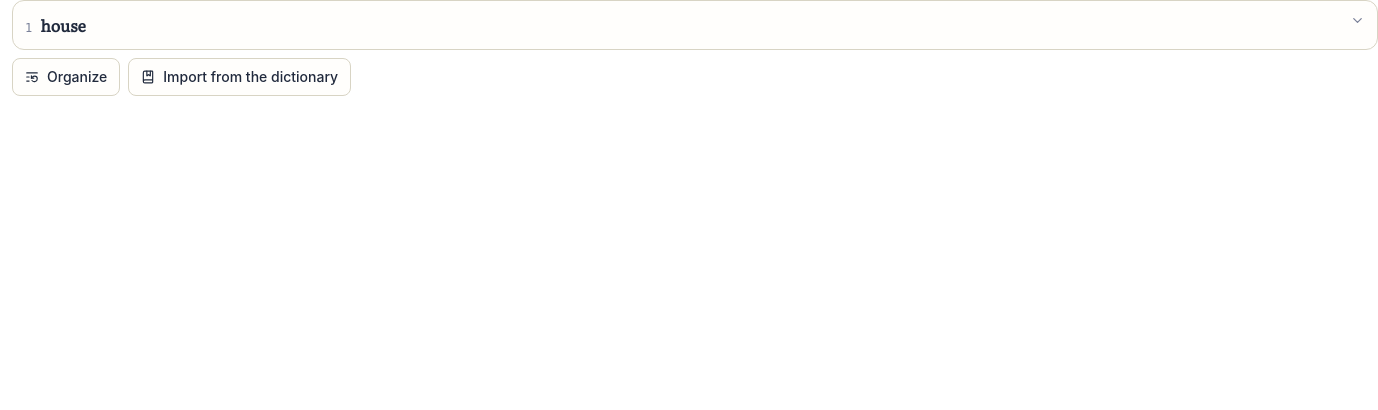
Test: importing meanings from the attached dictionary entry › starts with nothing selected and cannot import until a sense is chosen
What coordinates should you click on to do the following:
click the button "Import from the dictionary"
I would click on:
 (240, 77)
Its box is top-left (128, 58), bottom-right (351, 96).
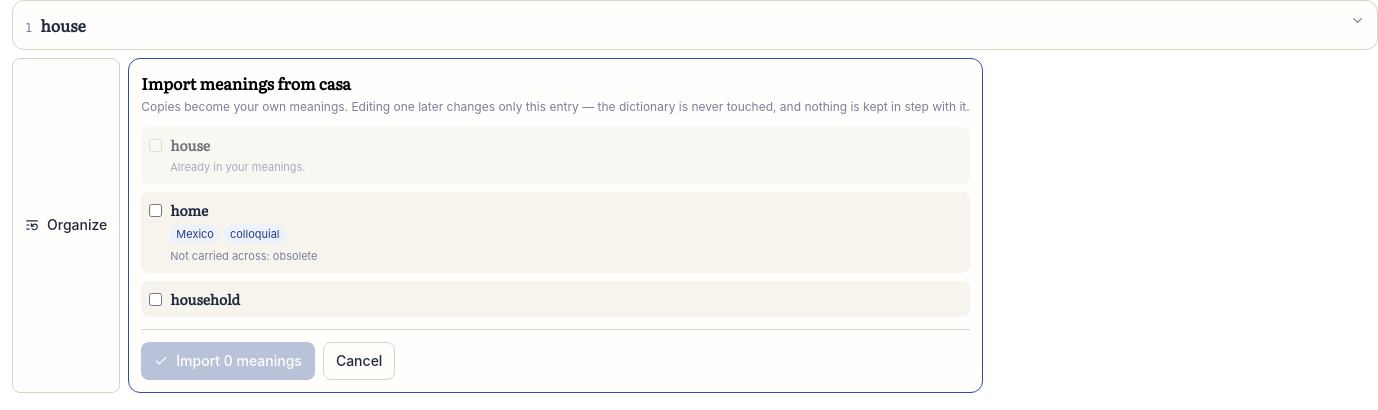
Expected: the checkbox labelled "house Already in your meanings." is not checked, top-left (149, 139), bottom-right (162, 152)
Expected: the checkbox labelled "home Mexico colloquial Not carried across: obsolete" is not checked
Expected: the checkbox labelled "household" is not checked, top-left (149, 292), bottom-right (162, 306)
What coordinates should you click on to do the following:
click the checkbox named "Import home"
I would click on:
 (156, 210)
Its box is top-left (149, 204), bottom-right (162, 216).
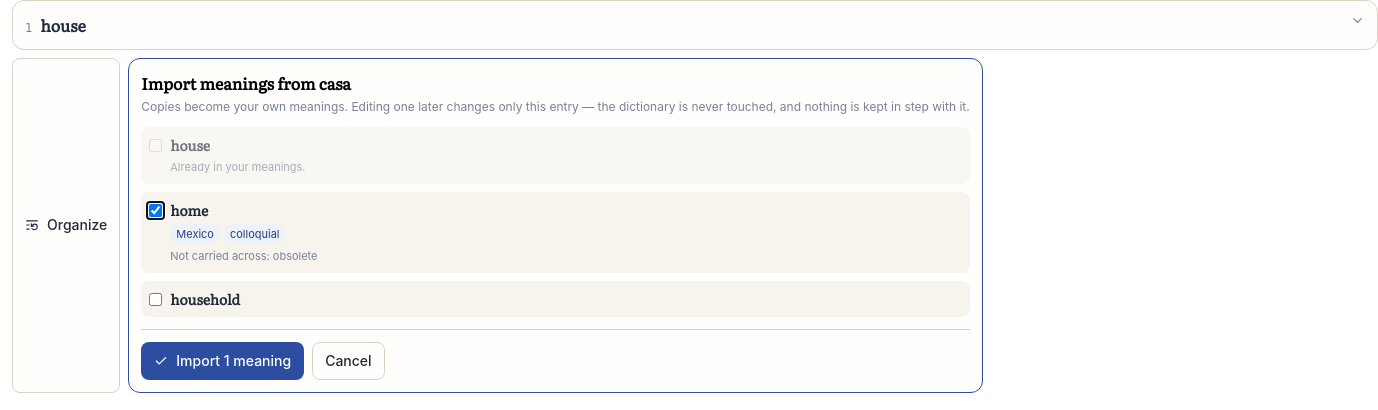
Expected: the button "Import 1 meaning" is enabled, top-left (141, 342), bottom-right (304, 380)
